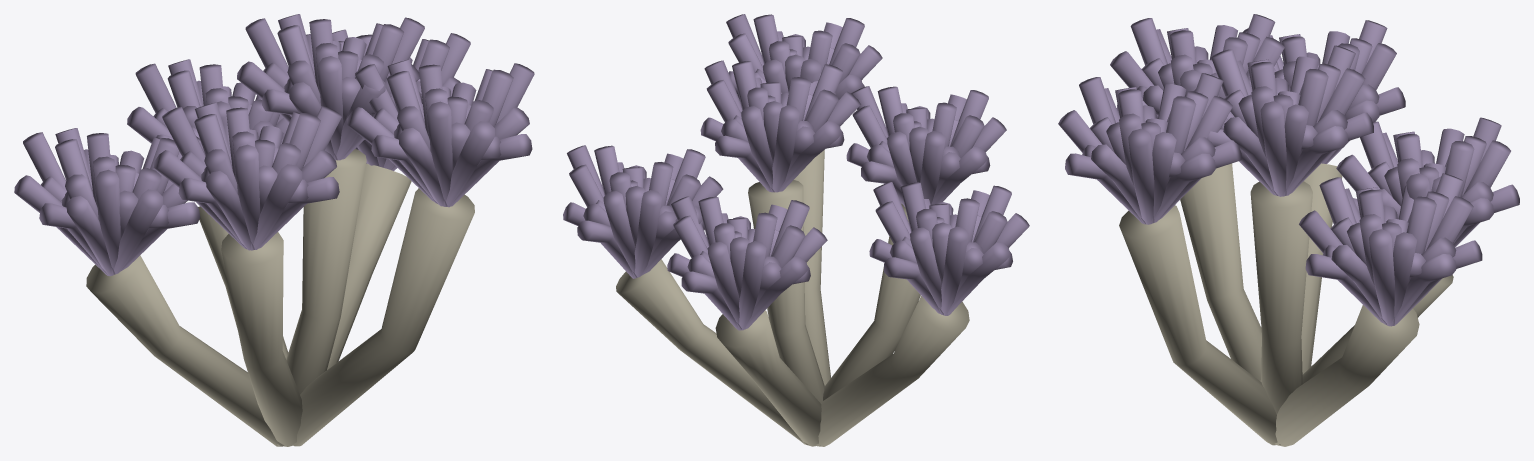
File: torch-desktop.glb
3 renders of one model, left to right at view 1: azimuth 30°, elevation 25°; view 2: azimuth 150°, elevation 25°; view 3: azimuth 270°, elevation 25°, orthographic. The views are drawn at different scales.
Parts seen in each view (by area): view 1: fleshy-tentacle, branching-corallum; view 2: fleshy-tentacle, branching-corallum; view 3: fleshy-tentacle, branching-corallum.
Boxes of the visible parts, left/top/right/bottom form: fleshy-tentacle: left=14, top=14, right=534, bottom=276; branching-corallum: left=86, top=149, right=474, bottom=446; fleshy-tentacle: left=563, top=14, right=1029, bottom=330; branching-corallum: left=616, top=150, right=969, bottom=446; fleshy-tentacle: left=1058, top=14, right=1519, bottom=326; branching-corallum: left=1119, top=163, right=1453, bottom=446.
Size of the model in its own units: 0.6071 by 0.4906 by 0.5174.
